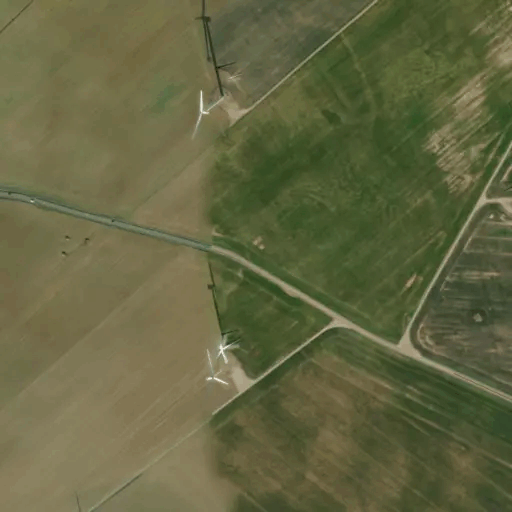wt: (184, 1, 234, 141), (201, 257, 238, 388)
